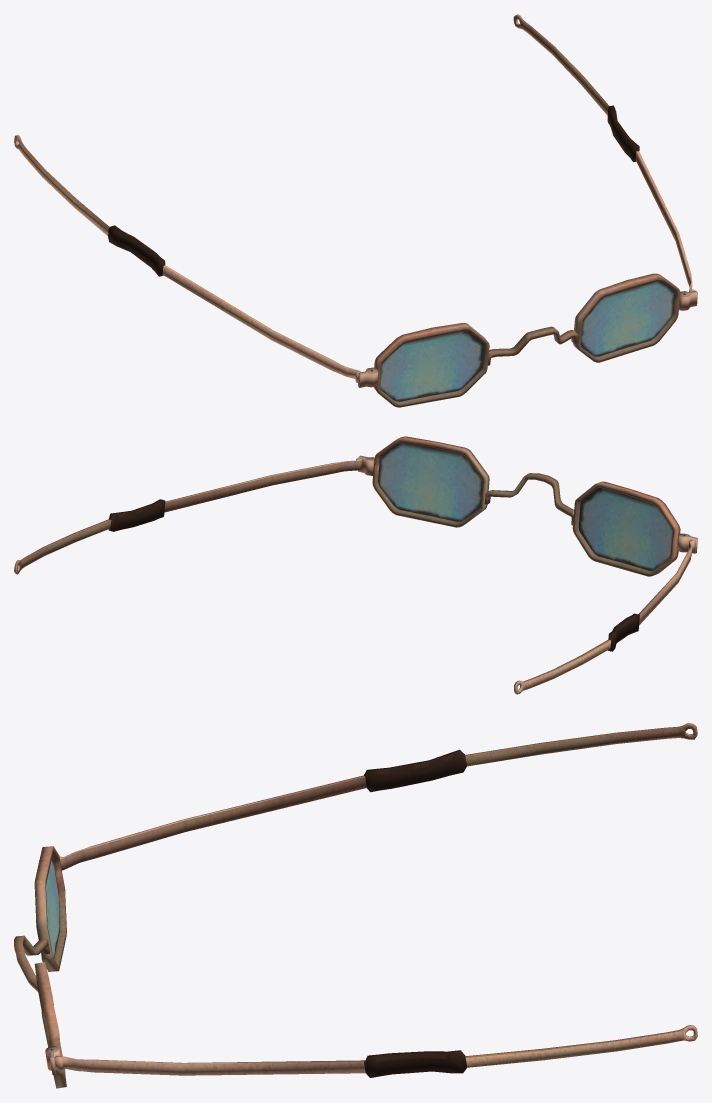
Rendered from Itm_SpectaclesShape.obj.
3 views of the same model, one above another, from view 1: azimuth 30°, elevation 25°; view 2: azimuth 150°, elevation 25°; view 3: azimuth 270°, elevation 25° (orthographic). The views are drawn at different scales.
Parts seen in each view (by area): view 1: Itm_Spectacles SkinnedMesh Mesh CharacterRoot; view 2: Itm_Spectacles SkinnedMesh Mesh CharacterRoot; view 3: Itm_Spectacles SkinnedMesh Mesh CharacterRoot.
Boxes of the visible parts, <box> form: Itm_Spectacles SkinnedMesh Mesh CharacterRoot: <box>14,14,697,407</box>; Itm_Spectacles SkinnedMesh Mesh CharacterRoot: <box>14,436,697,694</box>; Itm_Spectacles SkinnedMesh Mesh CharacterRoot: <box>14,723,697,1088</box>.
Size of the model in its own units: 17.25 by 3.65 by 16.27.
Materials: 1 (1 with a texture image).
